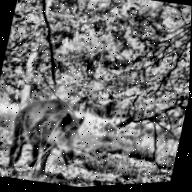boar: (0, 82, 98, 189)
